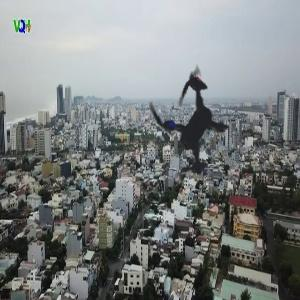drone: (96, 29, 295, 228)
